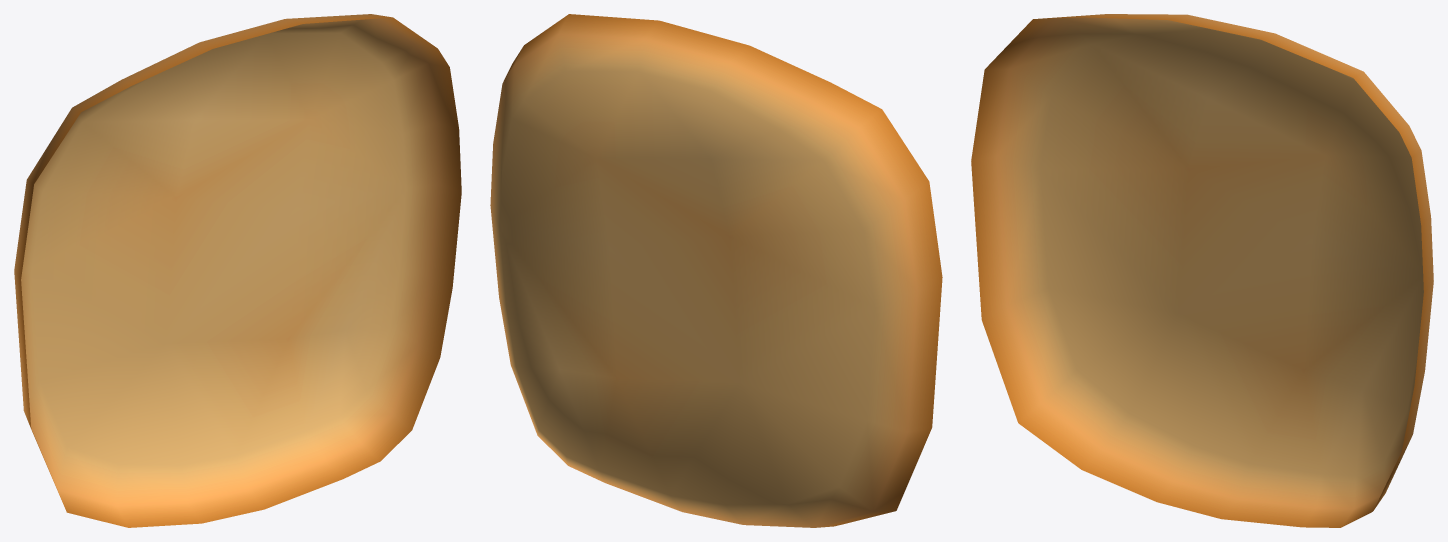
The model's file is Ground 02.FBX.
3 renders of one model, left to right at view 1: azimuth 30°, elevation 25°; view 2: azimuth 150°, elevation 25°; view 3: azimuth 330°, elevation 25°, orthographic. The views are drawn at different scales.
Parts seen in each view (by area): view 1: Ground 02; view 2: Ground 02; view 3: Ground 02.
Part boxes in pixels (left/top/right/bottom): Ground 02: left=14, top=14, right=461, bottom=527; Ground 02: left=490, top=14, right=942, bottom=527; Ground 02: left=971, top=14, right=1433, bottom=527.
Bounding box in the file's own units: 1365 × 1409 × 152.
1 material, 1 textured.
